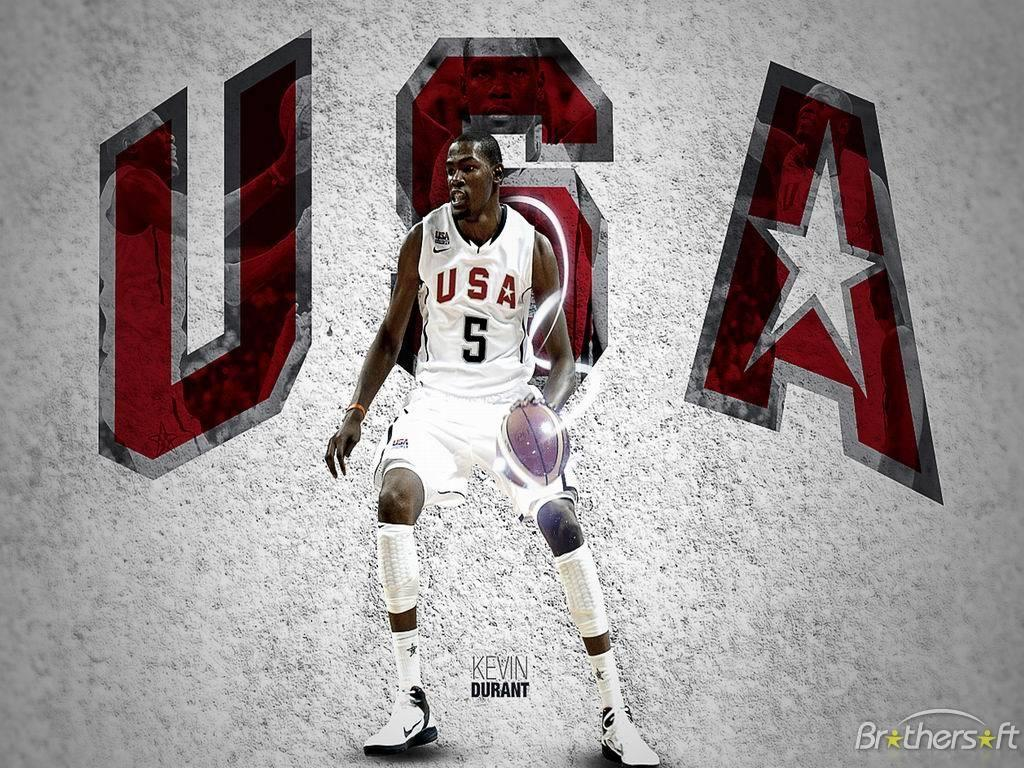face: (447, 148, 493, 216)
